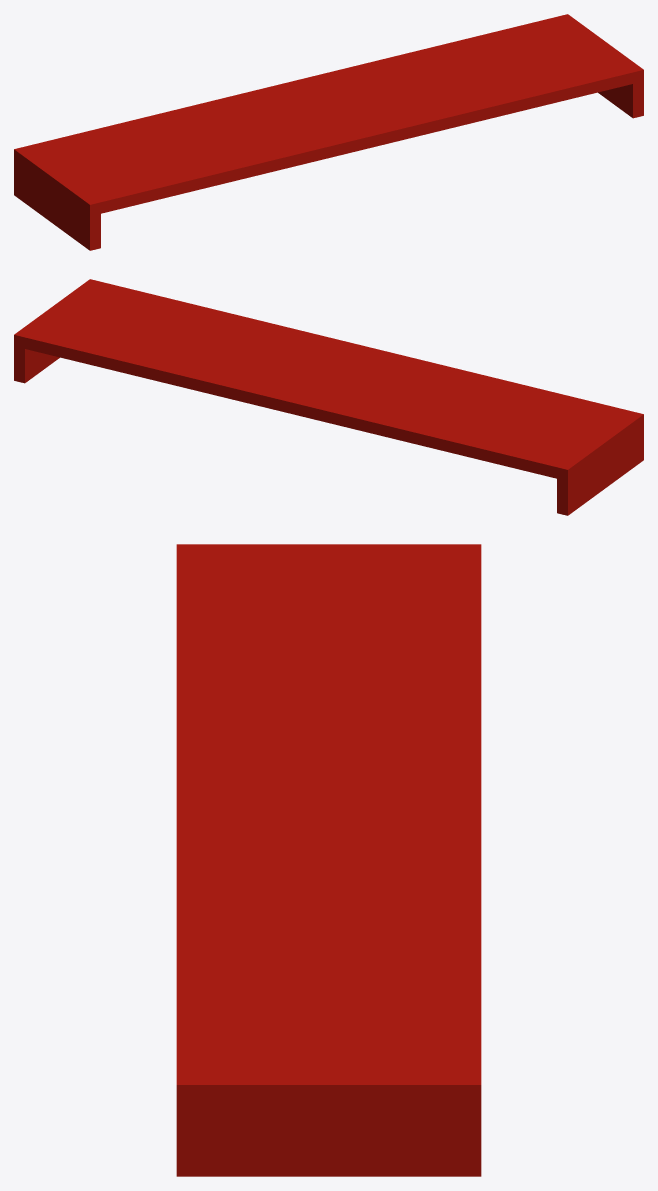
The model's file is goal1.obj.
3 renders of one model, top to bottom at view 1: azimuth 30°, elevation 25°; view 2: azimuth 150°, elevation 25°; view 3: azimuth 270°, elevation 25°, orthographic. The views are drawn at different scales.
Parts seen in each view (by area): view 1: AirHockeyTable_RedPlasticShader_0; view 2: AirHockeyTable_RedPlasticShader_0; view 3: AirHockeyTable_RedPlasticShader_0.
Boxes of the visible parts, <box> form: AirHockeyTable_RedPlasticShader_0: <box>14,14,643,250</box>; AirHockeyTable_RedPlasticShader_0: <box>14,279,643,515</box>; AirHockeyTable_RedPlasticShader_0: <box>176,544,481,1176</box>.
Bounding box in the file's own units: 32.99 × 2.62 × 7.85.
